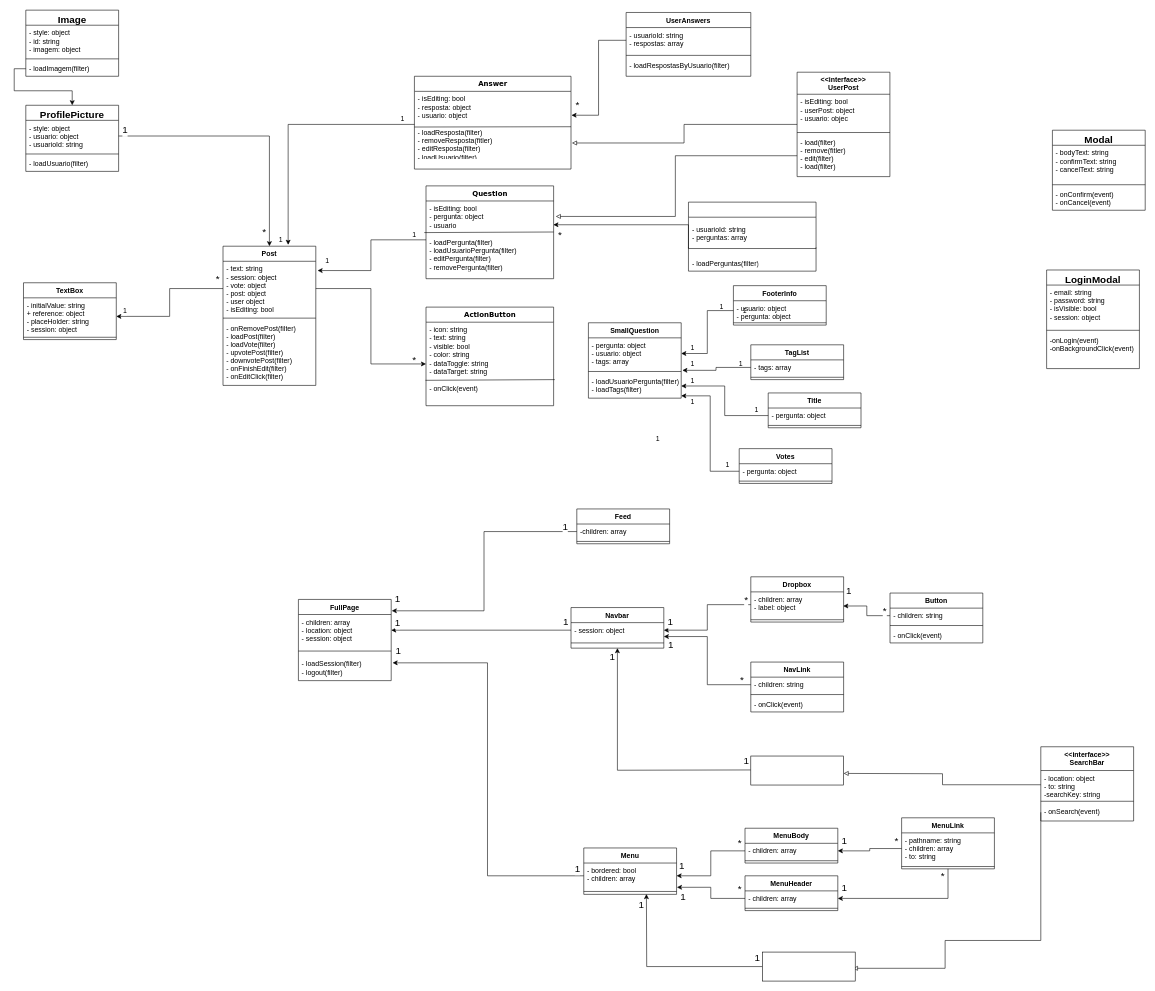
This 1155x991 diagram has some shape labels left out. Here are the shapes that lost their labels. From the top down, the centre of each, then its label:
the point at 752,225: UserQuestions
the point at 797,770: SearchBarNavbar
the point at 808,966: SearchBarMenu
